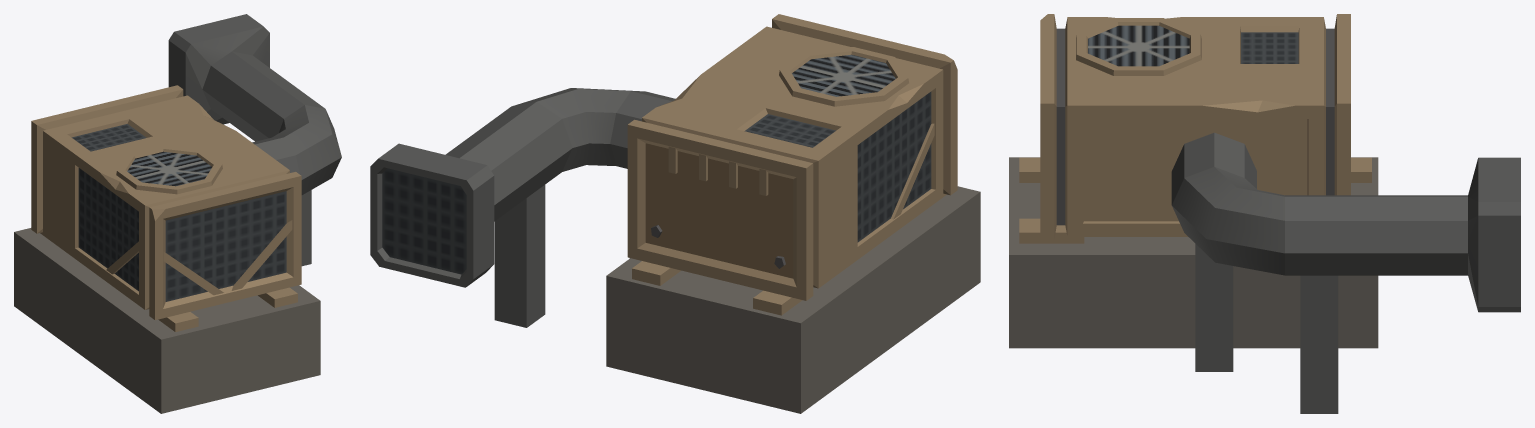
File: SM_Prop_Airvent_02.fbx
The picture shows the model from 3 angles, left to right: view 1: azimuth 30°, elevation 25°; view 2: azimuth 150°, elevation 25°; view 3: azimuth 270°, elevation 25°; orthographic projection. The views are drawn at different scales.
Parts seen in each view (by area): view 1: SM_Prop_Airvent_02; view 2: SM_Prop_Airvent_02; view 3: SM_Prop_Airvent_02.
Part boxes in pixels (x1=…): SM_Prop_Airvent_02: x1=14, y1=14, x2=341, y2=413; SM_Prop_Airvent_02: x1=370, y1=14, x2=980, y2=413; SM_Prop_Airvent_02: x1=1009, y1=14, x2=1520, y2=413.
Bounding box in the file's own units: 222 × 139 × 265.
